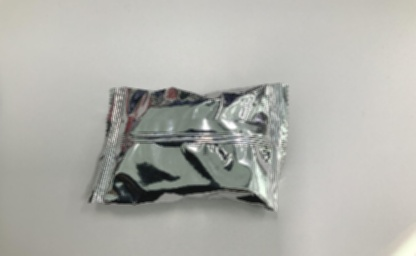br: (85, 79, 292, 215)
